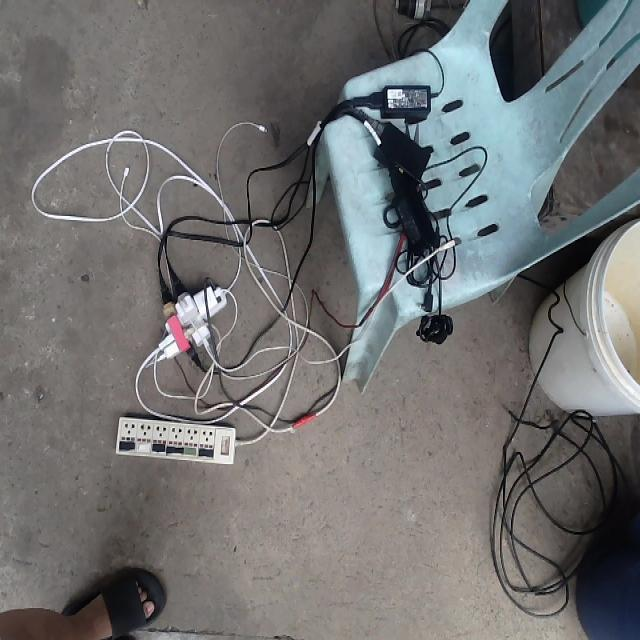-: (153, 275, 231, 368)
